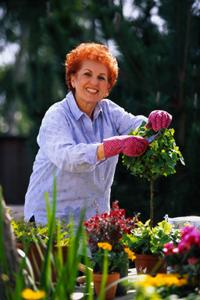person: (23, 42, 173, 248)
